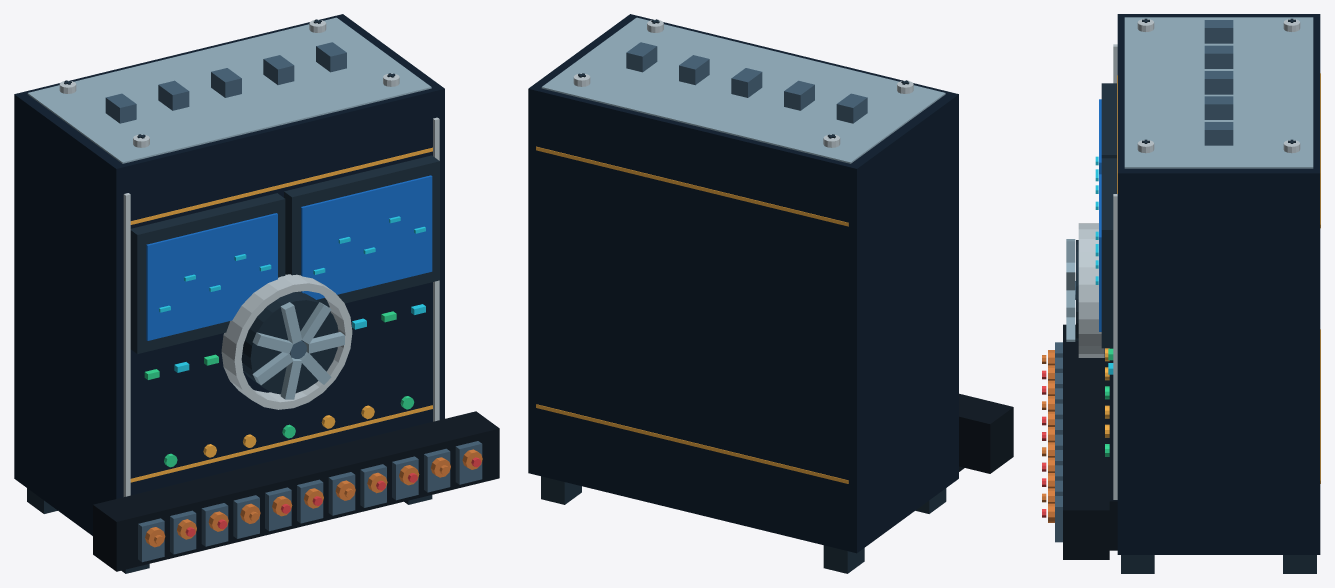
File: 25_L76_PulsedCurrentPlatingRectifier.fbx
3 views of the same model, side by side, from view 1: azimuth 30°, elevation 25°; view 2: azimuth 150°, elevation 25°; view 3: azimuth 270°, elevation 25° (orthographic).
Parts seen in each view (by area): view 1: PulsedCurrentPlatingRectifier, PulsedCurrentPlatingRectifier_Part_0093, PulsedCurrentPlatingRectifier_Part_0092, PulsedCurrentPlatingRectifier_Part_0098, PulsedCurrentPlatingRectifier_Part_0095; view 2: PulsedCurrentPlatingRectifier; view 3: PulsedCurrentPlatingRectifier, PulsedCurrentPlatingRectifier_Part_0093.
Part boxes in pixels (box(x1,y1,x2,y2)): PulsedCurrentPlatingRectifier: box(14, 14, 499, 573); PulsedCurrentPlatingRectifier_Part_0093: box(221, 274, 352, 409); PulsedCurrentPlatingRectifier_Part_0092: box(241, 291, 338, 394); PulsedCurrentPlatingRectifier_Part_0098: box(252, 352, 293, 385); PulsedCurrentPlatingRectifier_Part_0095: box(300, 302, 331, 343); PulsedCurrentPlatingRectifier: box(528, 14, 1013, 573); PulsedCurrentPlatingRectifier: box(1042, 14, 1320, 573); PulsedCurrentPlatingRectifier_Part_0093: box(1078, 223, 1104, 357).
Size of the model in its own units: 169 by 180 by 107.
